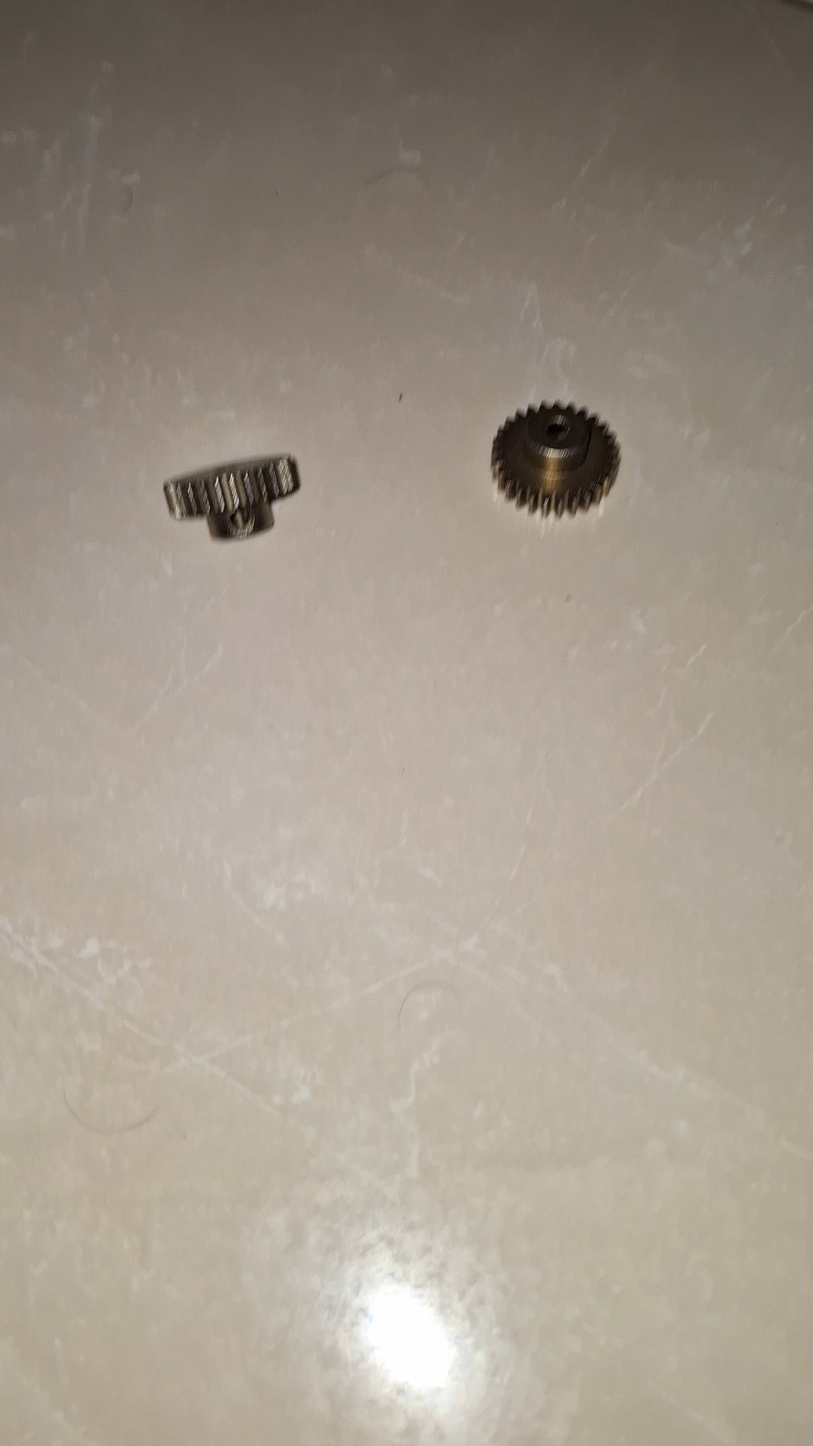spur gear: (492, 403, 620, 516), (164, 455, 299, 538), (785, 0, 813, 8)
